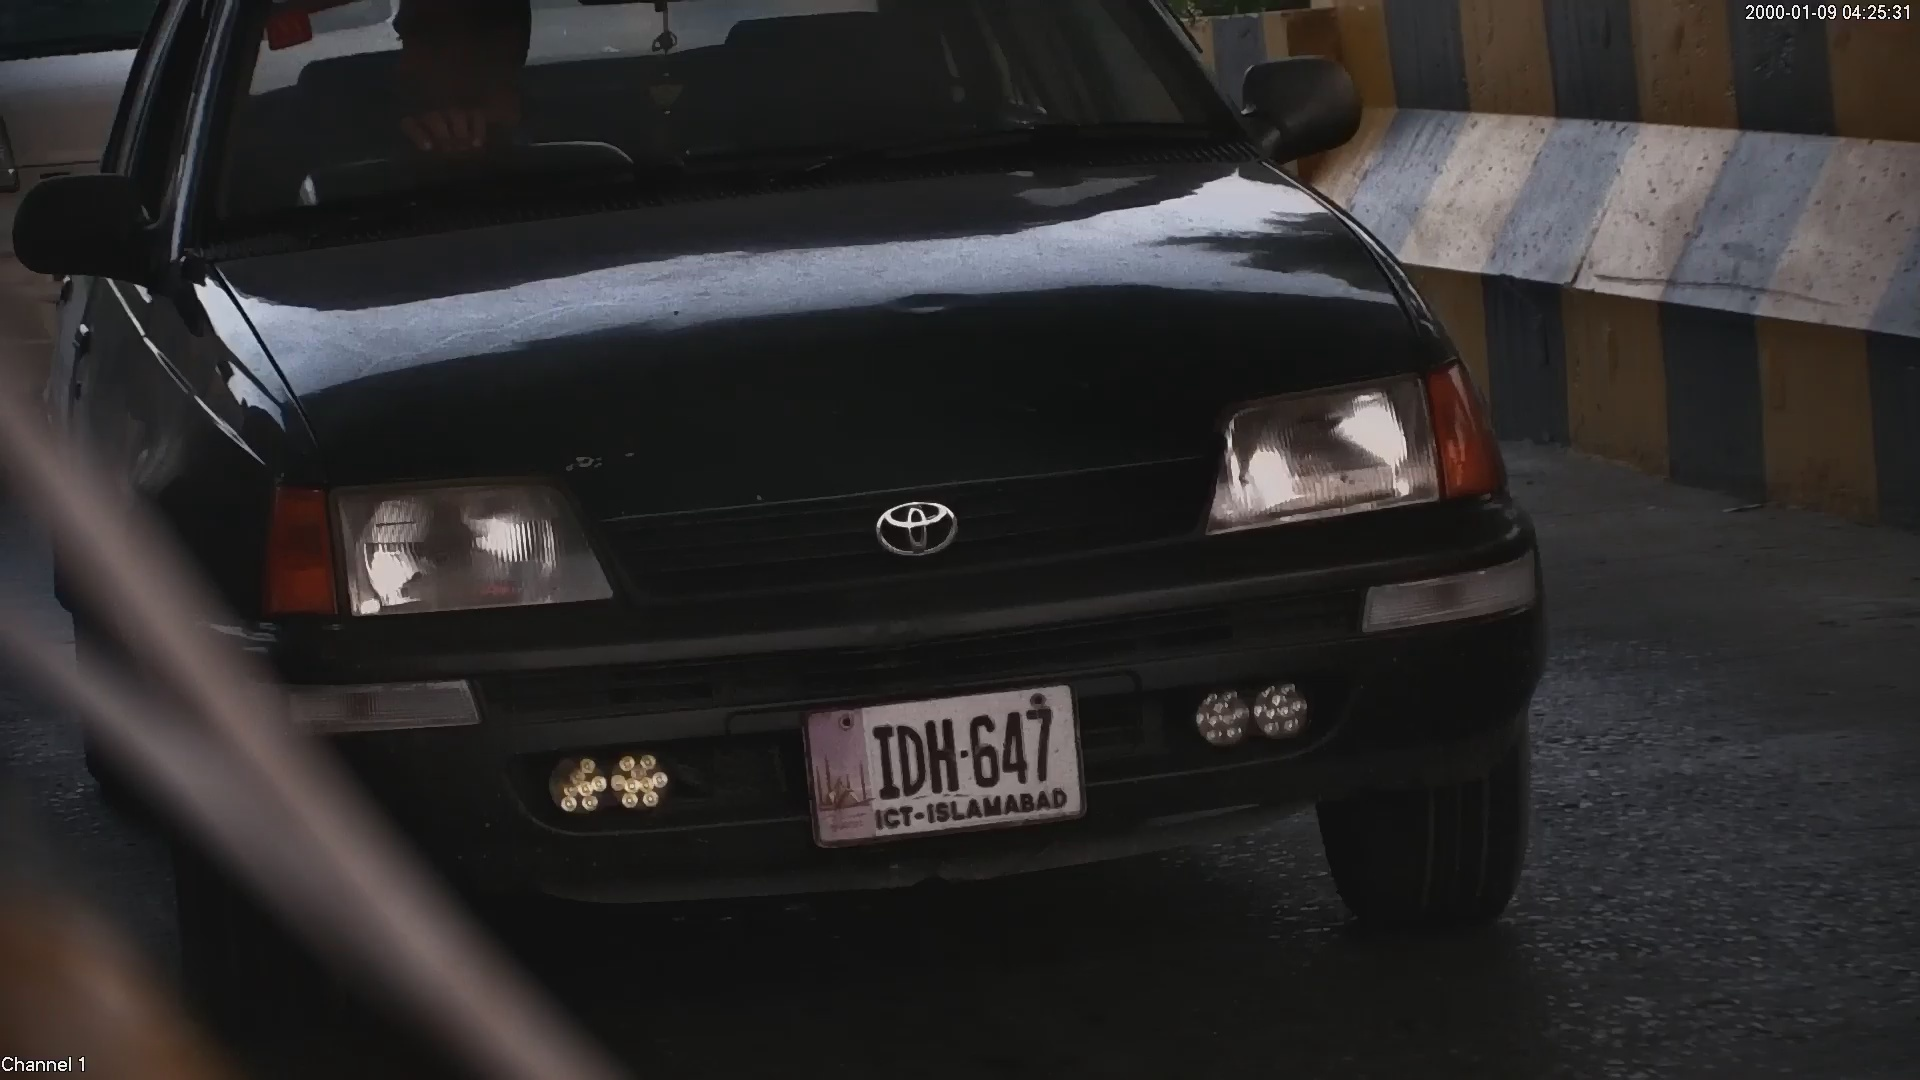Number_Plate: (789, 675, 1097, 846)
Undefined: (269, 486, 591, 609), (1223, 383, 1495, 514), (863, 492, 973, 564)
